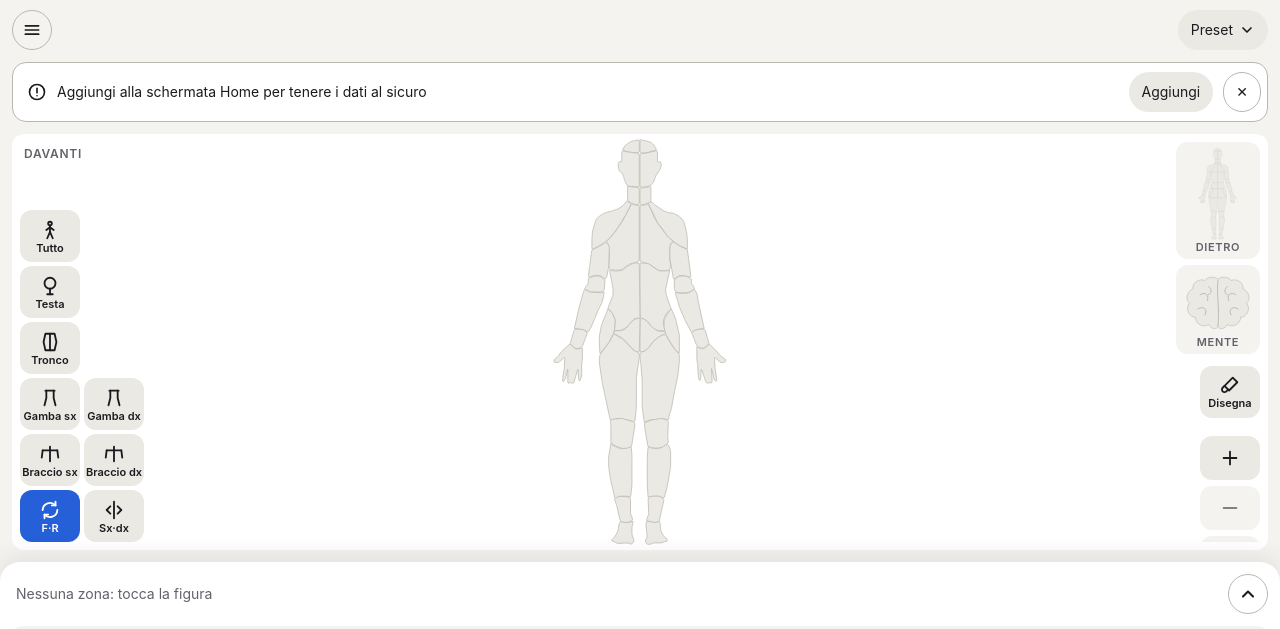
Trends summary › an entry dated after today is not in any range, as on the chart (#114)
Click the button named "Menu" at [32, 30], box [12,10,52,50]
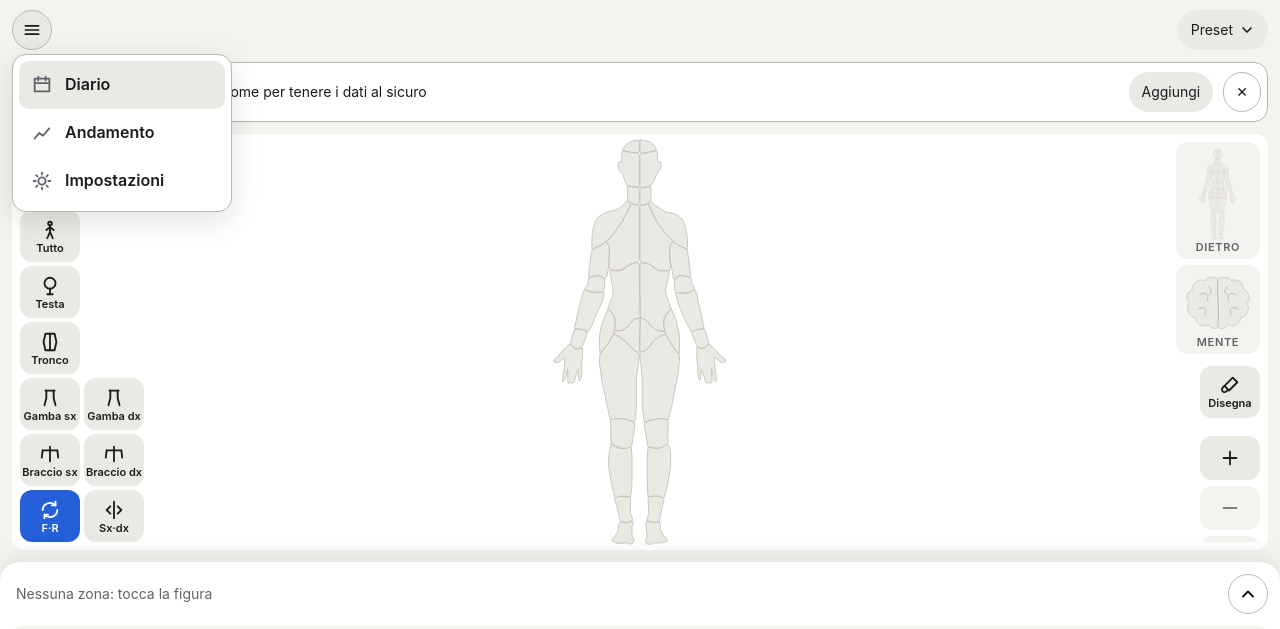
Click the menu item "Andamento" at [122, 133], box [19,109,225,157]
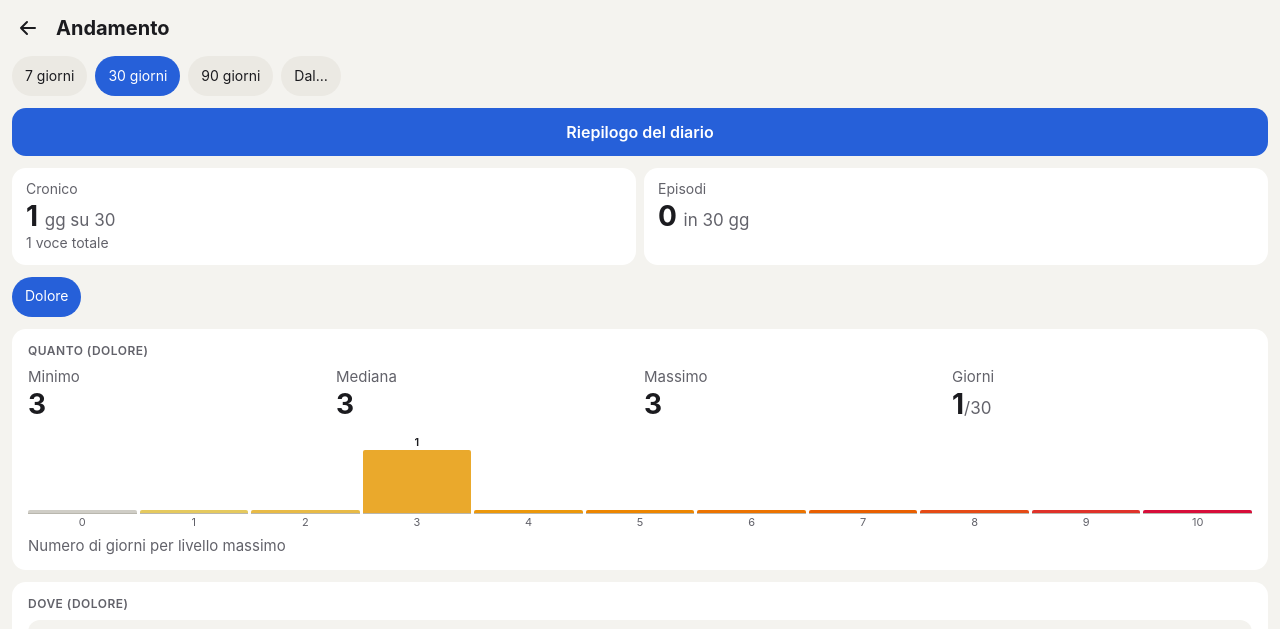
Expected: the element showing "Cronico 1 gg su 30 1 voce totale" is shown, [12,168,636,265]
Expected: the 3rd text "3" is shown, [644,387,662,421]
